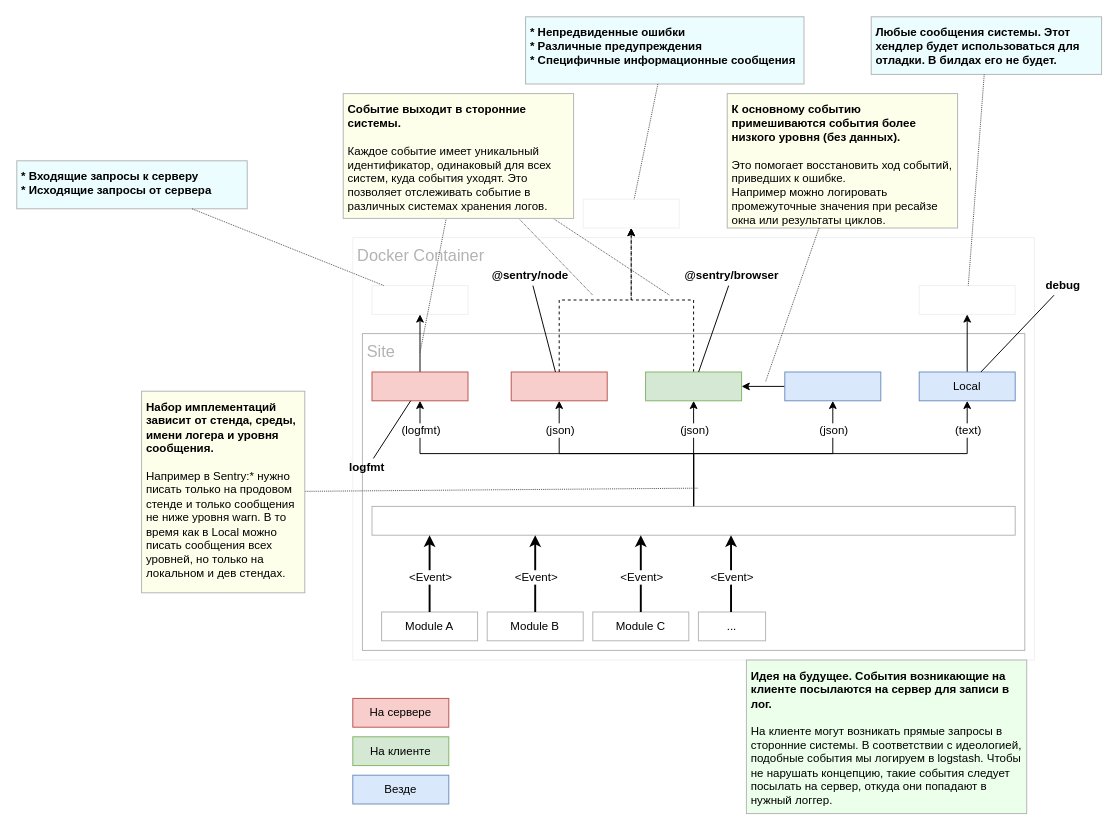
Image size: 1118x830. Some labels were removed from this diagram. The shapes that lost their labels are listed below. From the top down, each one's centre as x and y in pixels, then its label:
the point at 630,213: Sentry.io
the point at 419,299: syslog
the point at 966,299: stdout / console
the point at 419,386: std*
the point at 558,386: Sentry:Node
the point at 693,386: Sentry:Browser
the point at 832,386: Backlog
the point at 693,520: Logging Bridge
